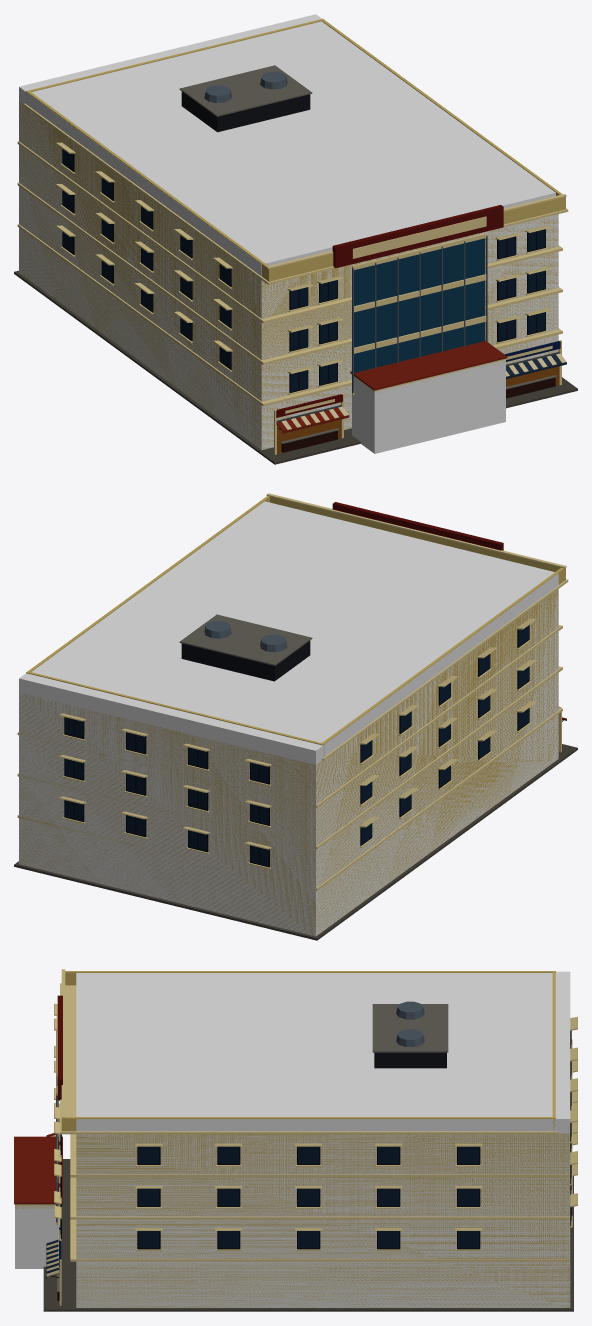
File: B14_shopping_complex.glb
3 renders of one model, top to bottom at view 1: azimuth 30°, elevation 25°; view 2: azimuth 150°, elevation 25°; view 3: azimuth 270°, elevation 25°, orthographic.
Parts seen in each view (by area): view 1: COL_Main, LOD0, COL_Verandah; view 2: COL_Main, LOD0; view 3: COL_Main, LOD0, COL_Verandah.
Part boxes in pixels (left/top/right/bottom): COL_Main: left=19, top=14, right=558, bottom=449; LOD0: left=14, top=18, right=577, bottom=464; COL_Verandah: left=352, top=360, right=505, bottom=453; COL_Main: left=19, top=501, right=558, bottom=936; LOD0: left=14, top=493, right=577, bottom=940; COL_Main: left=76, top=971, right=570, bottom=1307; LOD0: left=14, top=969, right=577, bottom=1311; COL_Verandah: left=15, top=1205, right=60, bottom=1268.
Size of what is drawn, in the model's own units: 25.05 by 16.36 by 38.8.
